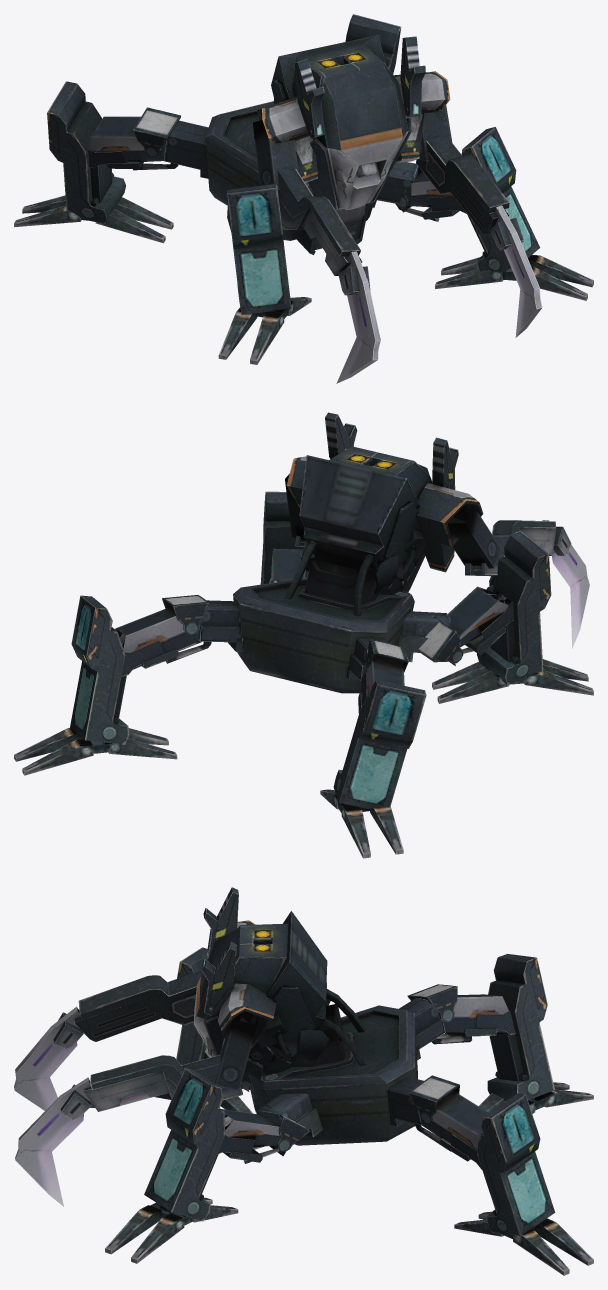
3 views of the same model, one above another, from view 1: azimuth 30°, elevation 25°; view 2: azimuth 150°, elevation 25°; view 3: azimuth 270°, elevation 25° (orthographic). The views are drawn at different scales.
Visible parts, largest first — view 1: 20_10; view 2: 20_10; view 3: 20_10.
Boxes of the visible parts, x1=… form: 20_10: x1=14, y1=14, x2=593, y2=383; 20_10: x1=14, y1=412, x2=593, y2=858; 20_10: x1=14, y1=887, x2=593, y2=1275.
Size of the model in its own units: 301 by 193 by 391.
